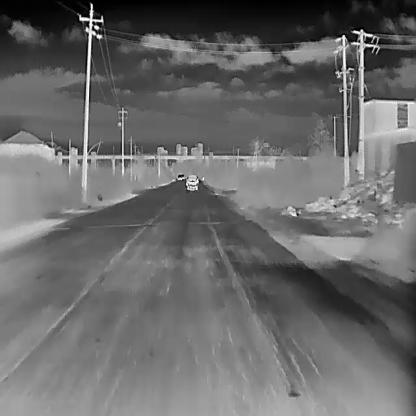car: (185, 174, 198, 189), (176, 173, 182, 180), (180, 173, 184, 180)
